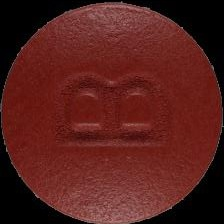63629-1560: (0, 0, 224, 224)
